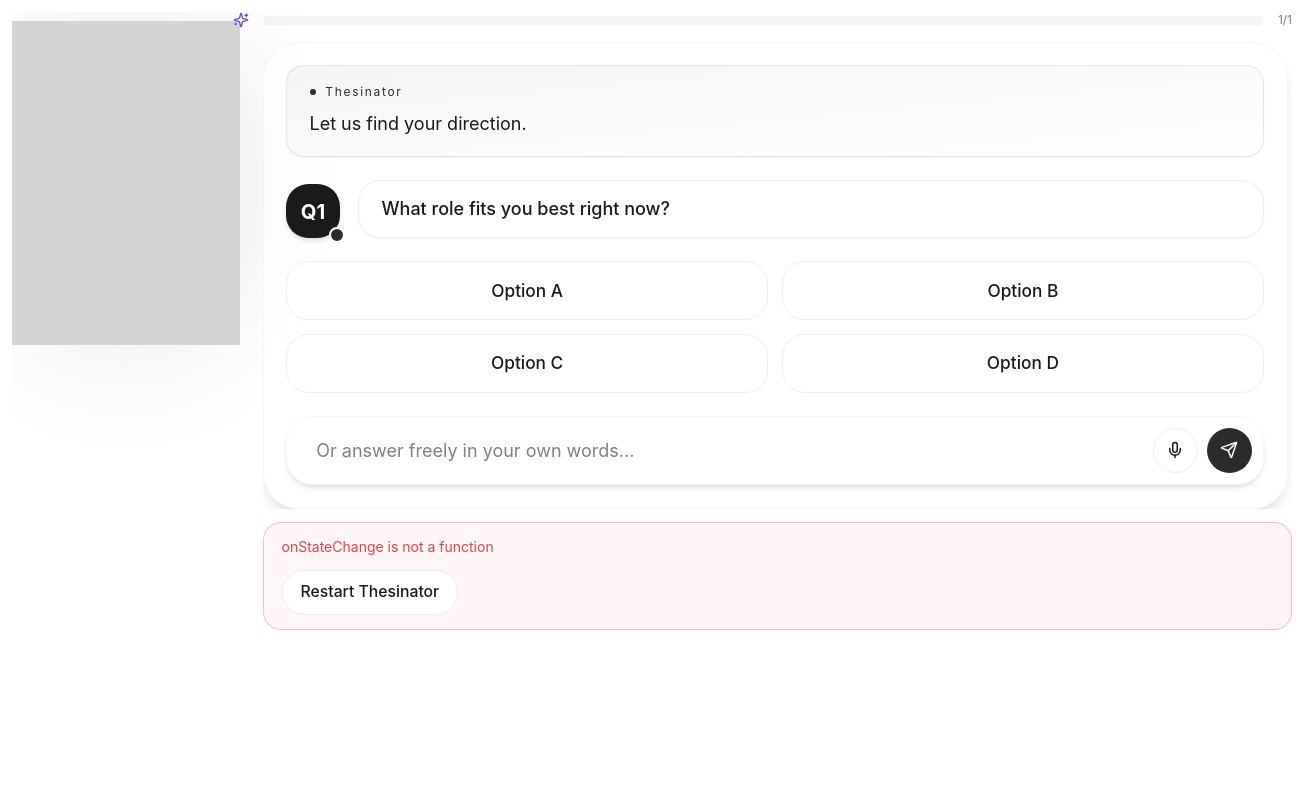
Test: StepGenieChat waiting UX › scrolls the waiting card into view when pending feedback appears
Click the button "Option A": click(527, 290) [286, 261, 768, 320]
Wait 130 ms
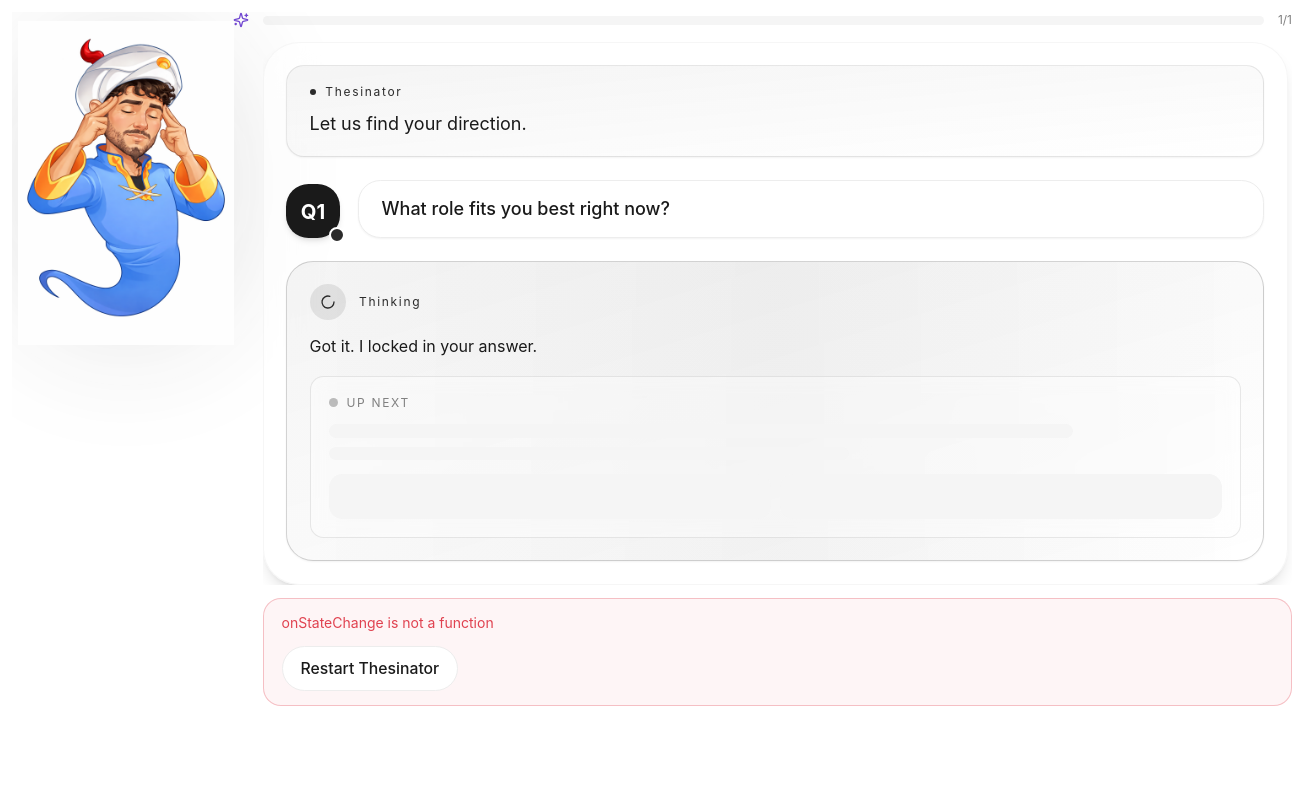
Check: the element with test id "step-genie-next-question-skeleton" is shown, box [286, 261, 1264, 561]
